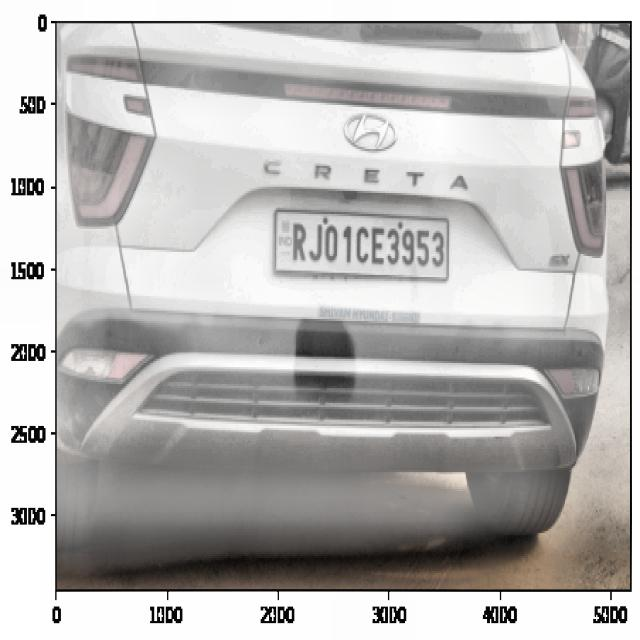license_plate: (288, 214, 451, 281)
